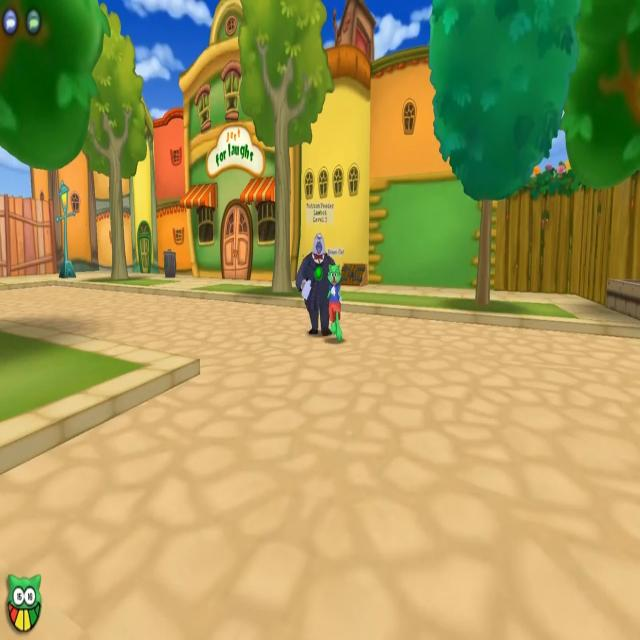bottomfeeder: (293, 199, 349, 340)
